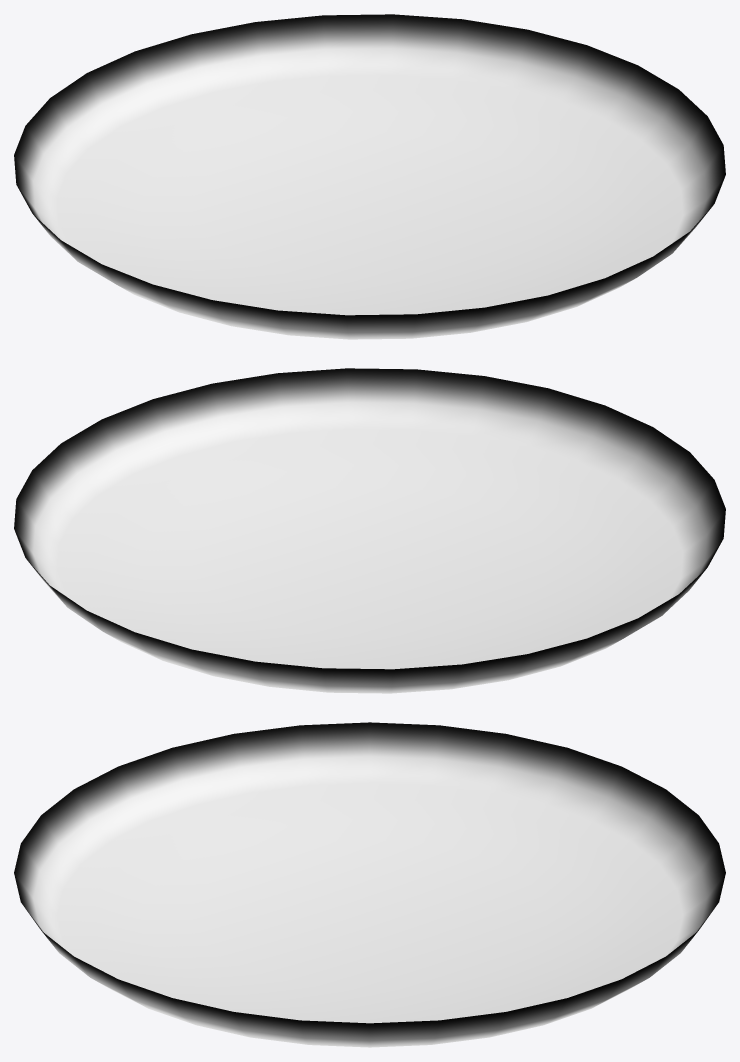
The model's file is mesh_bowl_shallow.fbx.
The picture shows the model from 3 angles, top to bottom: view 1: azimuth 30°, elevation 25°; view 2: azimuth 150°, elevation 25°; view 3: azimuth 270°, elevation 25°; orthographic projection.
Parts seen in each view (by area): view 1: mesh_bowl_shallow; view 2: mesh_bowl_shallow; view 3: mesh_bowl_shallow.
Boxes of the visible parts, left/top/right/bottom form: mesh_bowl_shallow: left=14, top=14, right=725, bottom=339; mesh_bowl_shallow: left=14, top=368, right=725, bottom=693; mesh_bowl_shallow: left=14, top=722, right=725, bottom=1047.
Size of the model in its own units: 228 by 14.96 by 228.
1 material, 1 textured.
